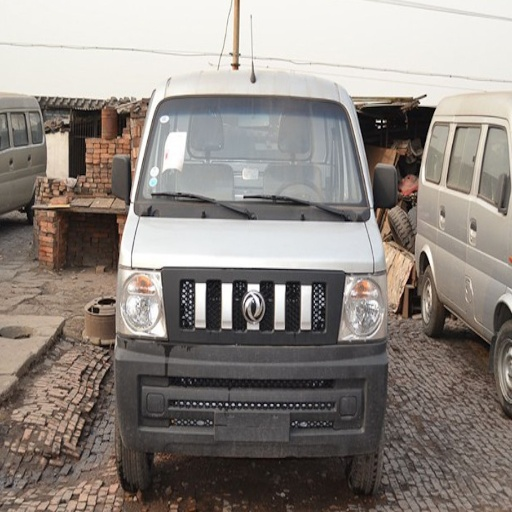front_bumper: (118, 268, 386, 455)
front_right_light: (121, 267, 165, 341)
hood: (132, 216, 374, 271)
left_mirror: (374, 165, 416, 206)
